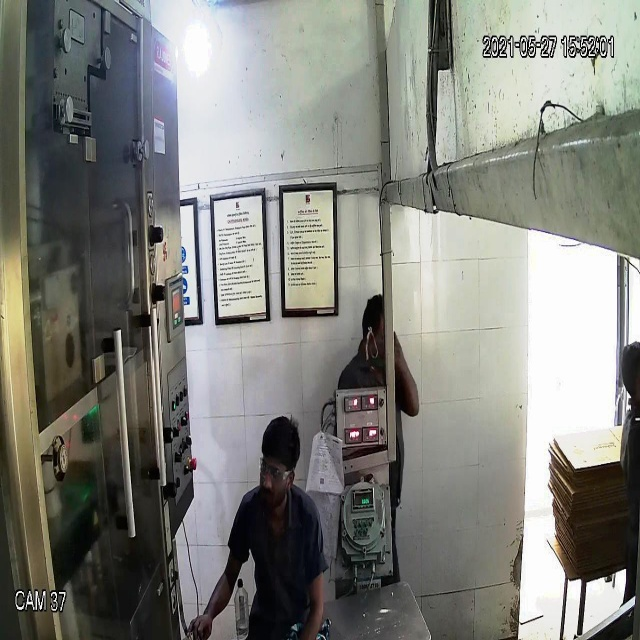Gafas: (254, 450, 297, 485)
